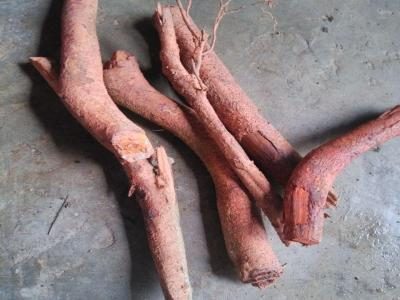Root: (29, 0, 191, 300), (104, 51, 283, 289), (153, 4, 290, 245), (169, 0, 302, 187), (325, 188, 338, 208)
